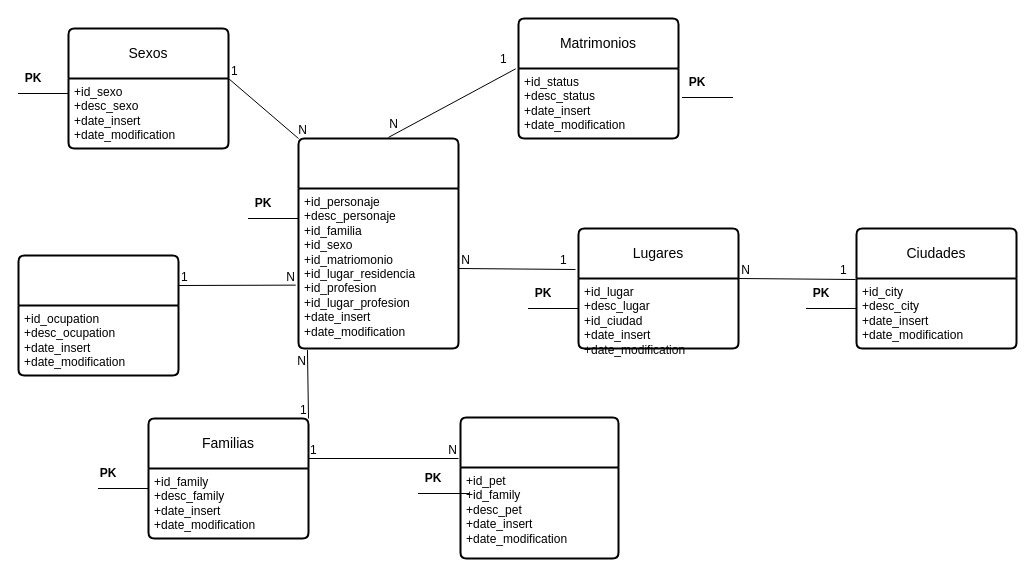
Some shapes in this 1034 by 576 pixel diagram are drawn without their labels. Here are the shapes that lost their labels. From the top down, the box of each, then its label:
(297, 137, 459, 349): Personajes
(17, 254, 179, 376): Profesiones
(459, 416, 619, 559): Mascotas
